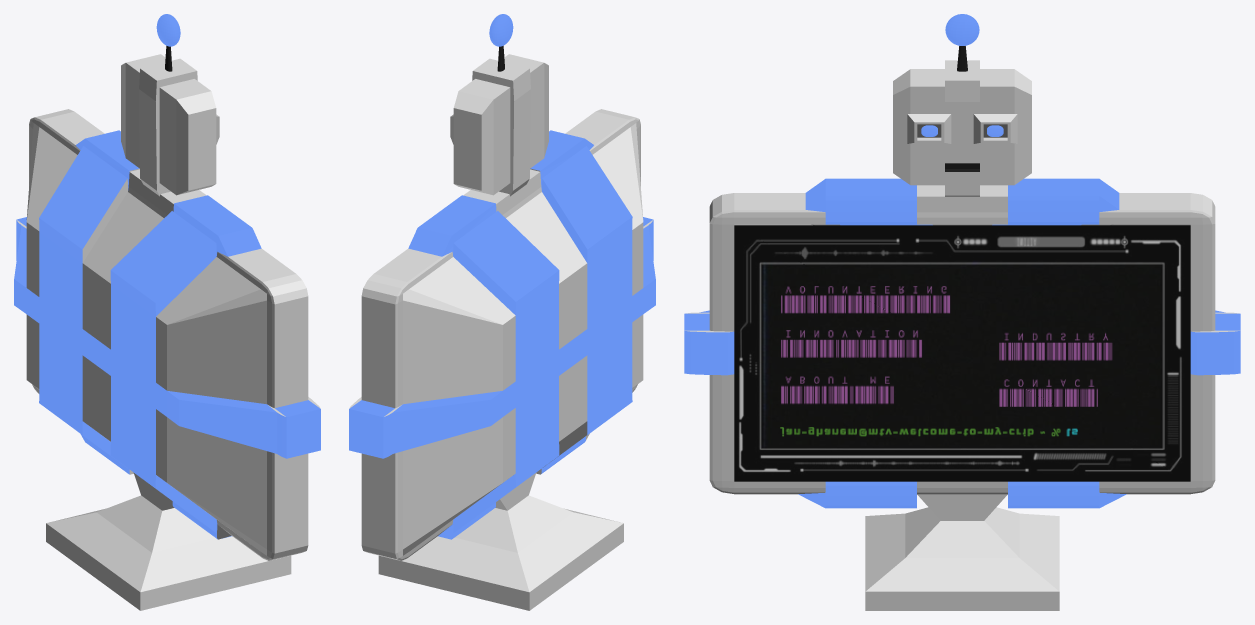
File: robot-nav-flipped-screen.glb
The picture shows the model from 3 angles, left to right: view 1: azimuth 30°, elevation 25°; view 2: azimuth 150°, elevation 25°; view 3: azimuth 270°, elevation 25°; orthographic projection. The views are drawn at different scales.
Parts seen in each view (by area): view 1: Robot; view 2: Robot; view 3: Screen, Robot.
Boxes of the visible parts, left/top/right/bottom form: Robot: left=14, top=14, right=320, bottom=610; Robot: left=349, top=14, right=655, bottom=610; Screen: left=734, top=225, right=1190, bottom=481; Robot: left=684, top=14, right=1240, bottom=610.
Size of the model in its own units: 13.7 by 47.12 by 42.52.
6 materials, 1 textured.
